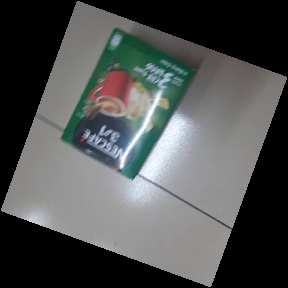Nes Rang: (58, 27, 198, 180)
